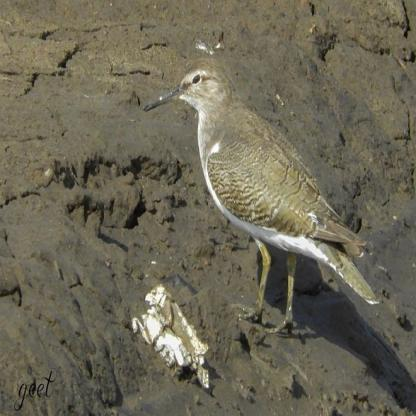Burung: (143, 63, 378, 336)
